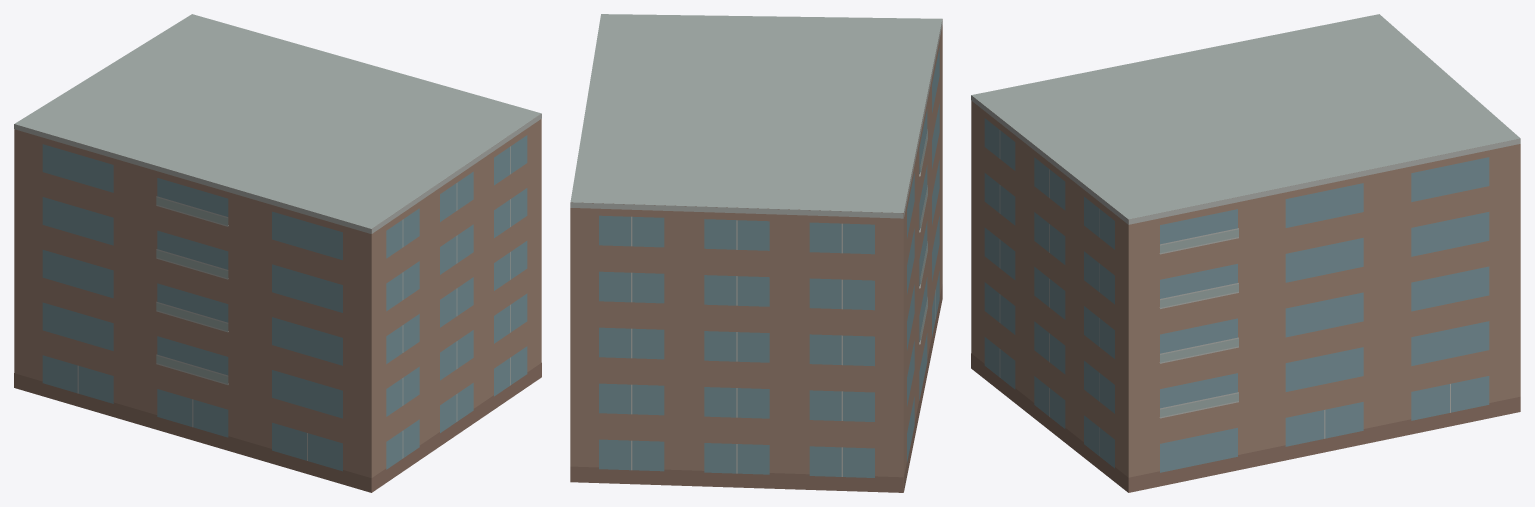
File: survey-upis-32598903.glb
3 renders of one model, left to right at view 1: azimuth 30°, elevation 25°; view 2: azimuth 150°, elevation 25°; view 3: azimuth 270°, elevation 25°, orthographic. The views are drawn at different scales.
Visible parts, largest first — view 1: survey-upis-32598903.tmp; view 2: survey-upis-32598903.tmp; view 3: survey-upis-32598903.tmp.
Boxes of the visible parts, box(x1,y1,x2,y2) form: survey-upis-32598903.tmp: box(14, 14, 541, 492); survey-upis-32598903.tmp: box(570, 14, 942, 492); survey-upis-32598903.tmp: box(971, 14, 1520, 492).
Size of the model in its own units: 20.16 by 12.5 by 22.78.
